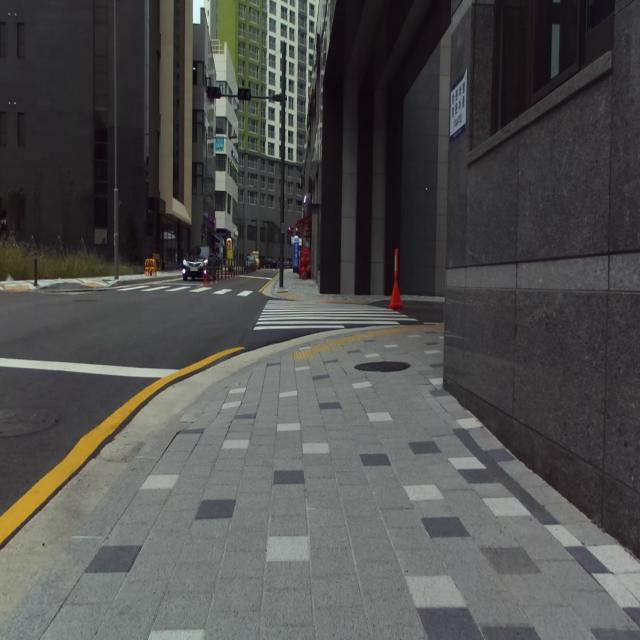횡단보도: (253, 300, 418, 330)
